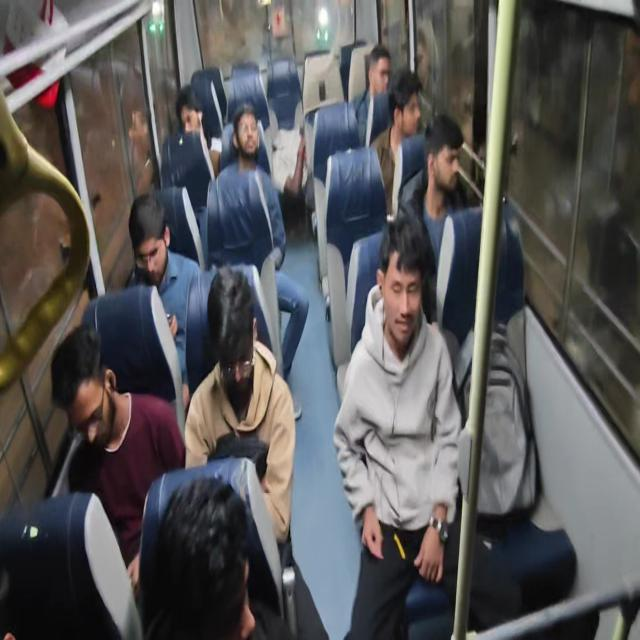person: (172, 463, 253, 640), (350, 228, 446, 368), (51, 340, 119, 488), (0, 521, 67, 640), (193, 280, 257, 402), (396, 70, 435, 182), (123, 184, 173, 270), (274, 104, 316, 200), (434, 129, 468, 205), (234, 101, 266, 179), (176, 84, 210, 140), (367, 40, 390, 96)
